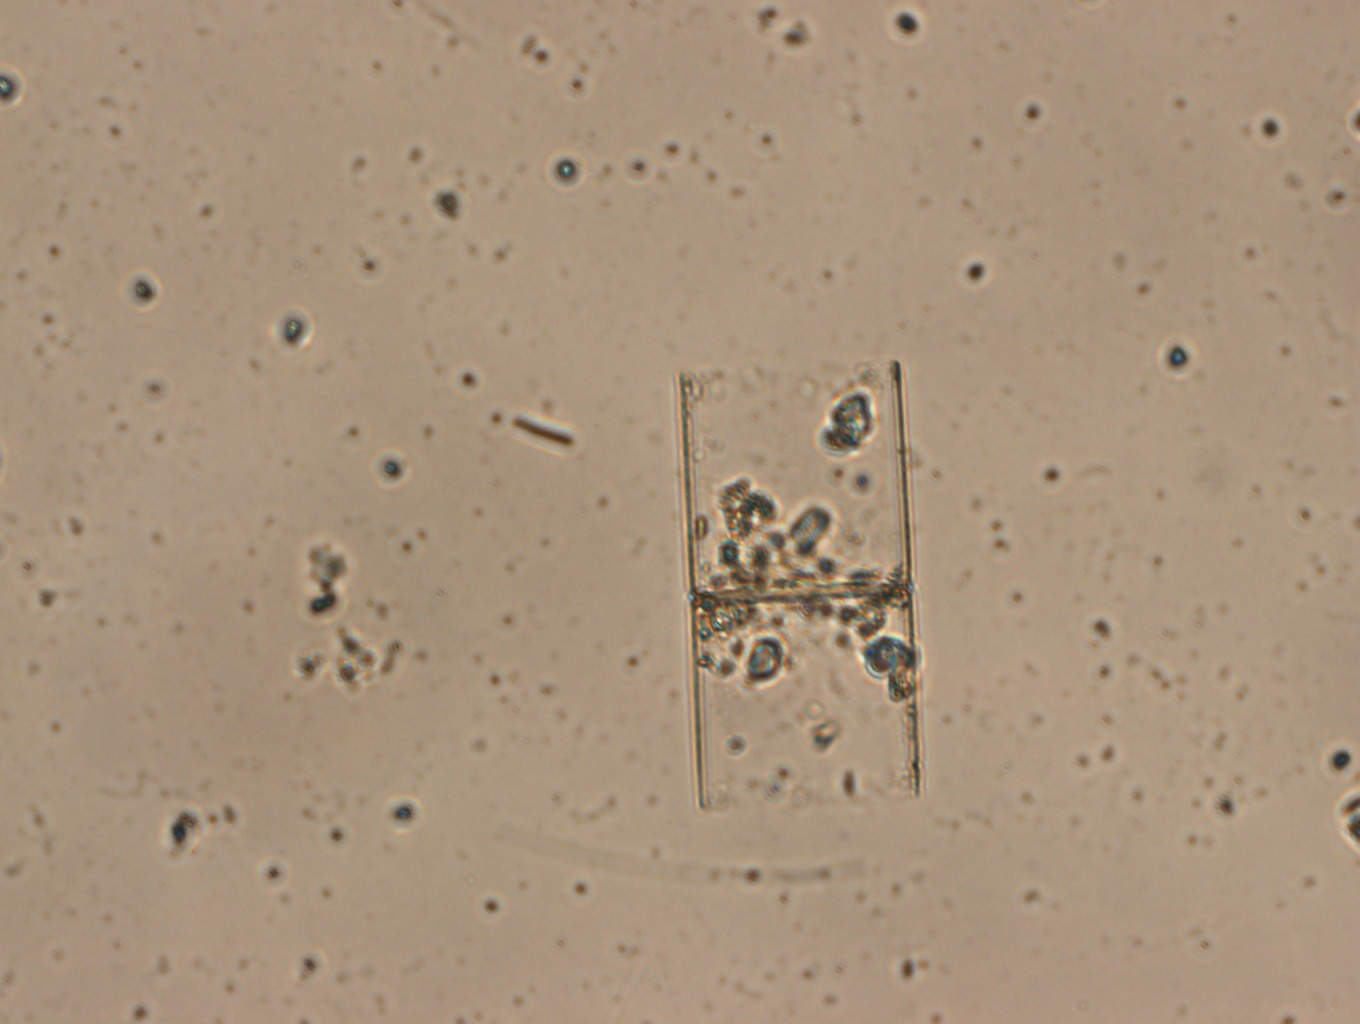guinardia flaccida: (674, 362, 921, 810)
